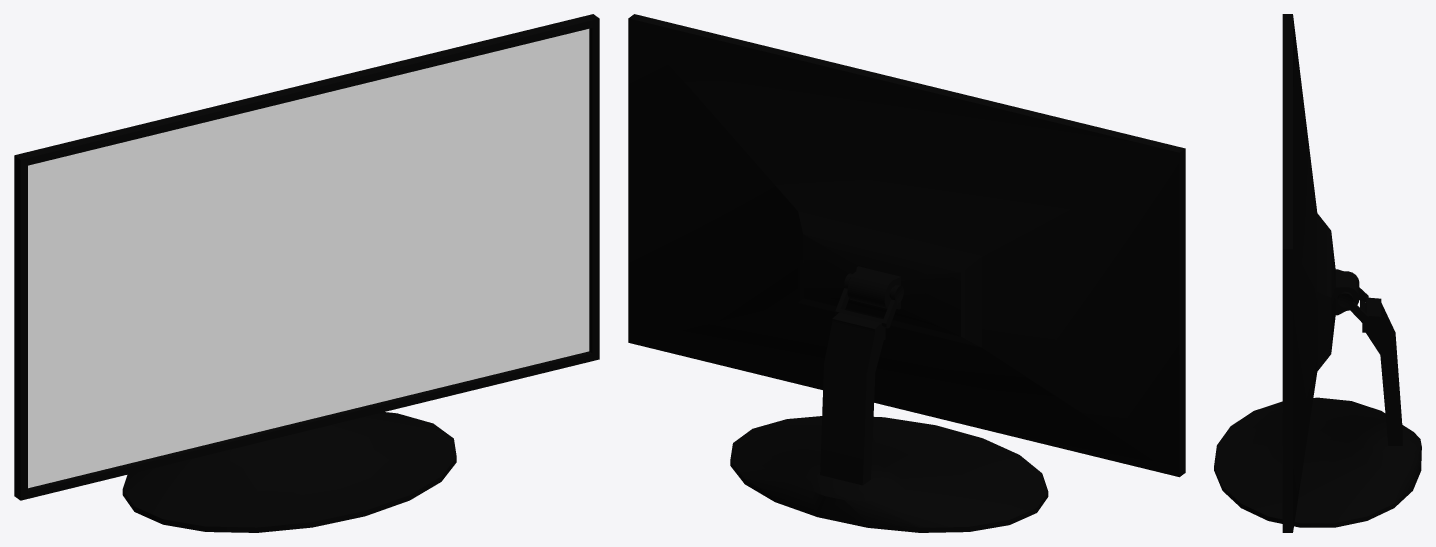
The picture shows the model from 3 angles, left to right: view 1: azimuth 30°, elevation 25°; view 2: azimuth 150°, elevation 25°; view 3: azimuth 270°, elevation 25°; orthographic projection. The views are drawn at different scales.
Parts seen in each view (by area): view 1: objMesh; view 2: objMesh; view 3: objMesh.
Boxes of the visible parts, <box> form: objMesh: <box>14,14,599,532</box>; objMesh: <box>628,14,1185,532</box>; objMesh: <box>1214,14,1421,532</box>.
Bounding box in the file's own units: 775 × 512 × 289.
Materials: 2 (2 with a texture image).
